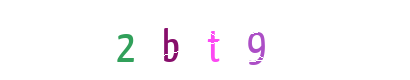2: (86, 0, 166, 80)
9: (197, 0, 277, 80)
B: (129, 0, 209, 80)
T: (165, 0, 245, 80)
